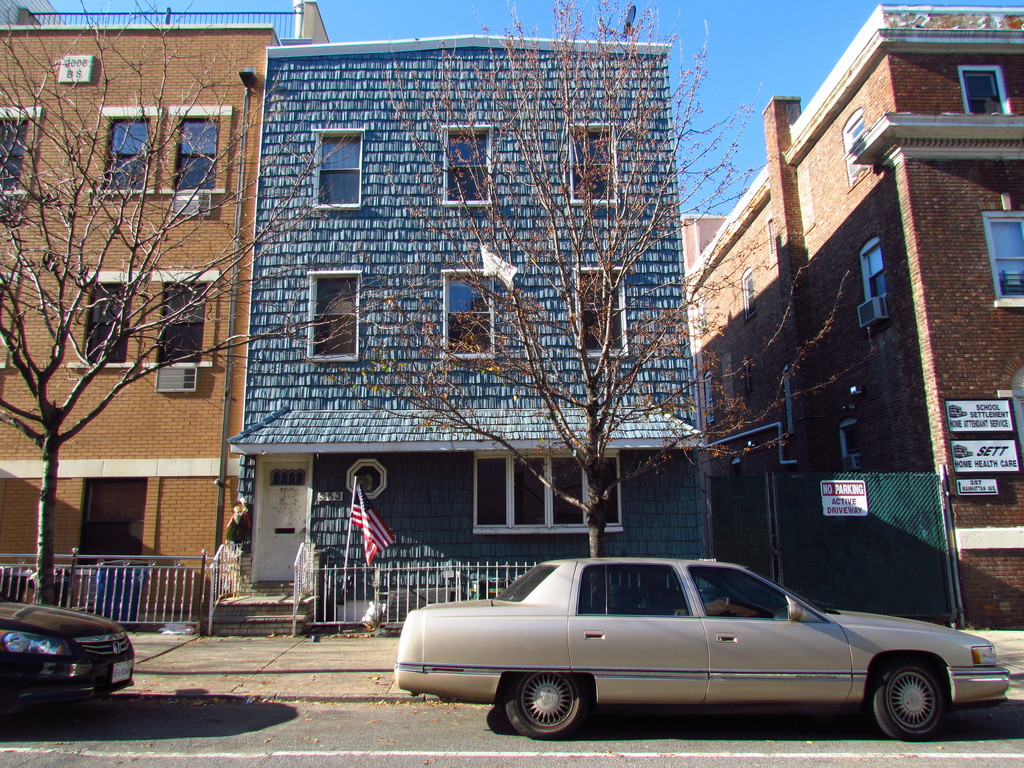Car: (386, 558, 1000, 743), (0, 599, 136, 712)
